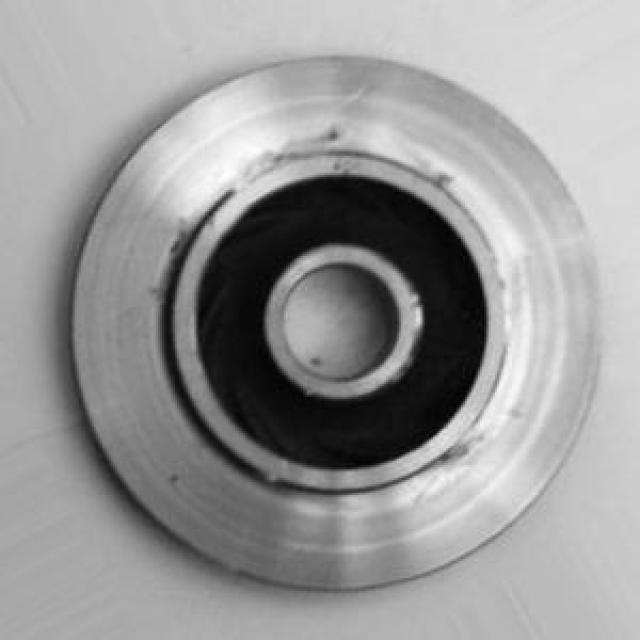Defect: (150, 217, 198, 269), (309, 105, 354, 157), (427, 145, 463, 205), (439, 438, 476, 470)
